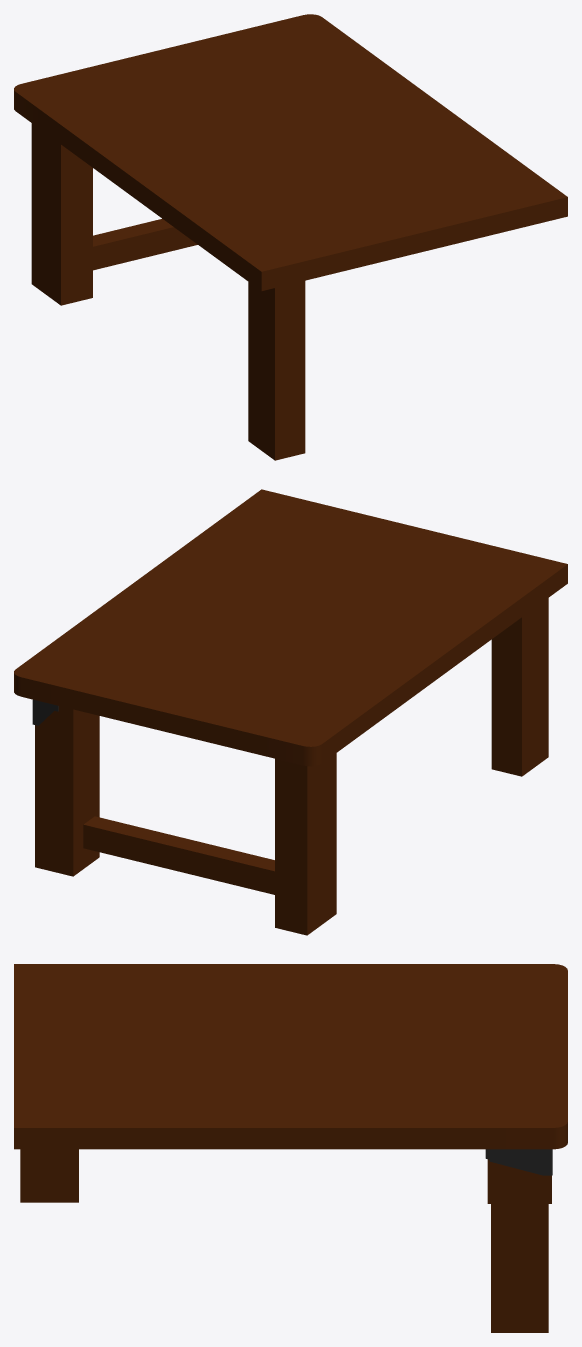
Rendered from meja 4_Scene.fbx.
The picture shows the model from 3 angles, top to bottom: view 1: azimuth 30°, elevation 25°; view 2: azimuth 150°, elevation 25°; view 3: azimuth 270°, elevation 25°; orthographic projection. The views are drawn at different scales.
Parts seen in each view (by area): view 1: Cube, Cube.006; view 2: Cube, Cube.006; view 3: Cube, Cube.018.
Part boxes in pixels (x1,y1,x2,y2): Cube: (14,14,567,460); Cube.006: (93,218,197,270); Cube: (14,489,567,935); Cube.006: (83,816,274,894); Cube: (14,964,567,1332); Cube.018: (485,1149,552,1175).
Size of the model in its own units: 219 by 133 by 312.
